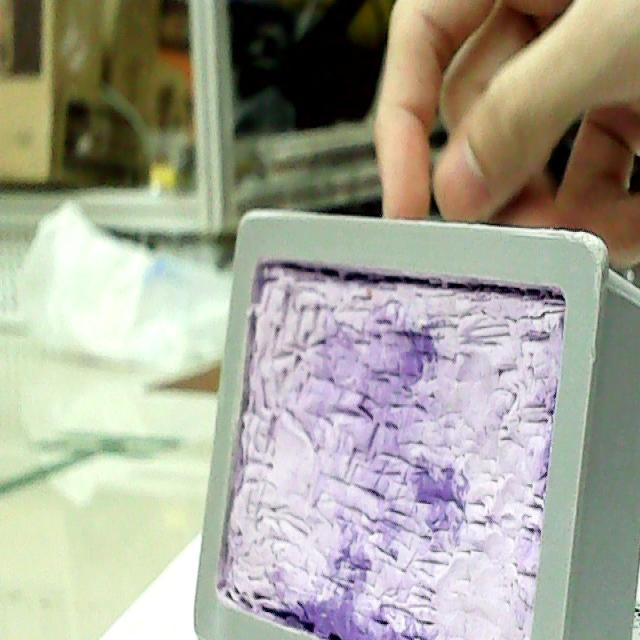block: (186, 213, 640, 639)
